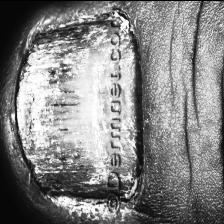Toxin: (12, 0, 106, 224)
